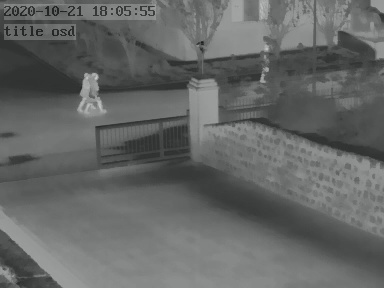person: (79, 71, 106, 114)
